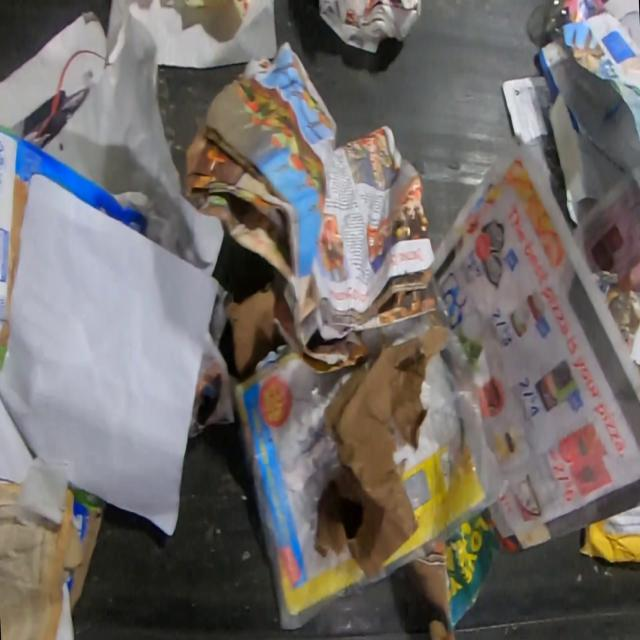cardboard: (313, 310, 452, 582), (224, 281, 277, 379), (65, 499, 104, 615), (578, 503, 639, 564)
rigid_plastic: (545, 0, 608, 41)
soft_plastic: (232, 332, 511, 631), (359, 312, 430, 370)
